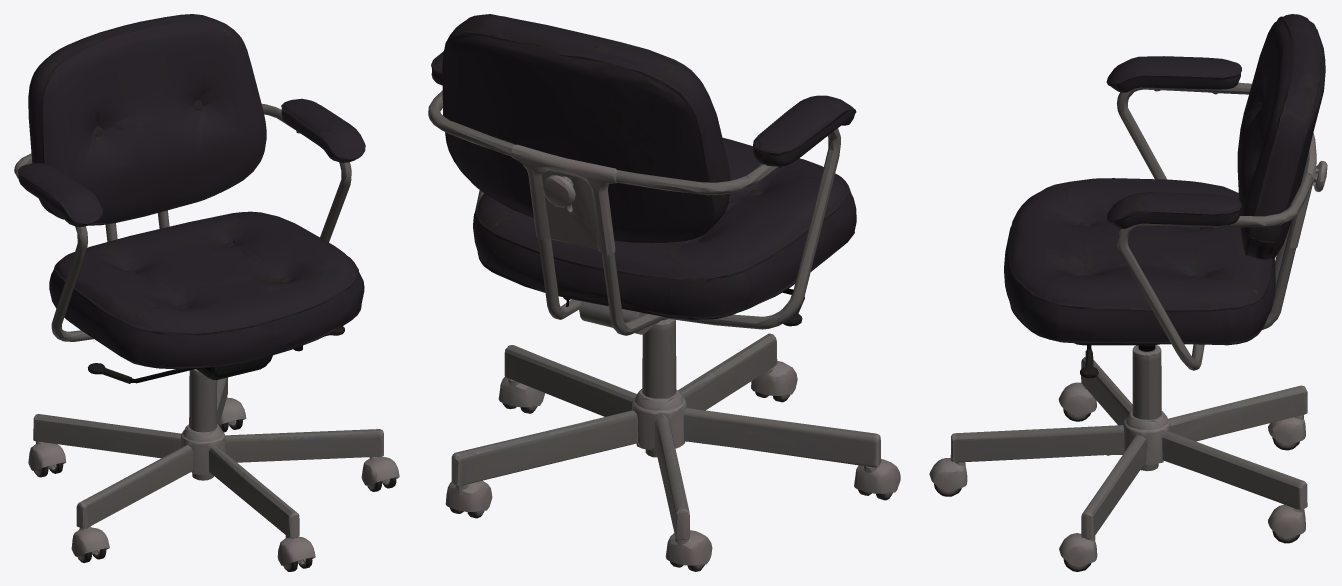
3 renders of one model, left to right at view 1: azimuth 30°, elevation 25°; view 2: azimuth 150°, elevation 25°; view 3: azimuth 270°, elevation 25°, orthographic. The views are drawn at different scales.
Parts seen in each view (by area): view 1: ProcessedMeshNode; view 2: ProcessedMeshNode; view 3: ProcessedMeshNode.
Part boxes in pixels (box(x1,y1,x2,y2)): ProcessedMeshNode: box(14, 14, 399, 571); ProcessedMeshNode: box(428, 14, 900, 571); ProcessedMeshNode: box(929, 14, 1327, 571).
Size of the model in its own units: 0.6746 by 0.845 by 0.6845.
Materials: 1 (1 with a texture image).
